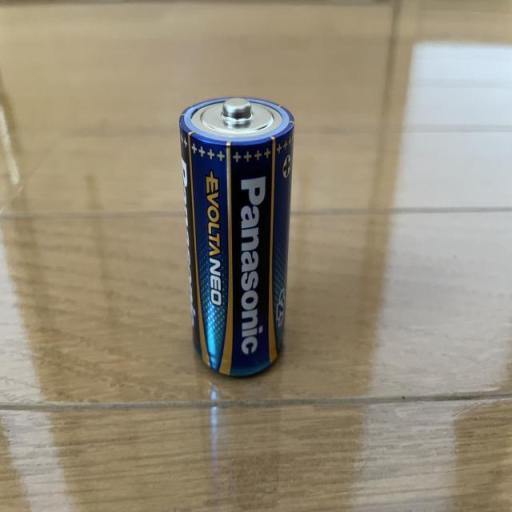battery: (177, 88, 293, 384)
